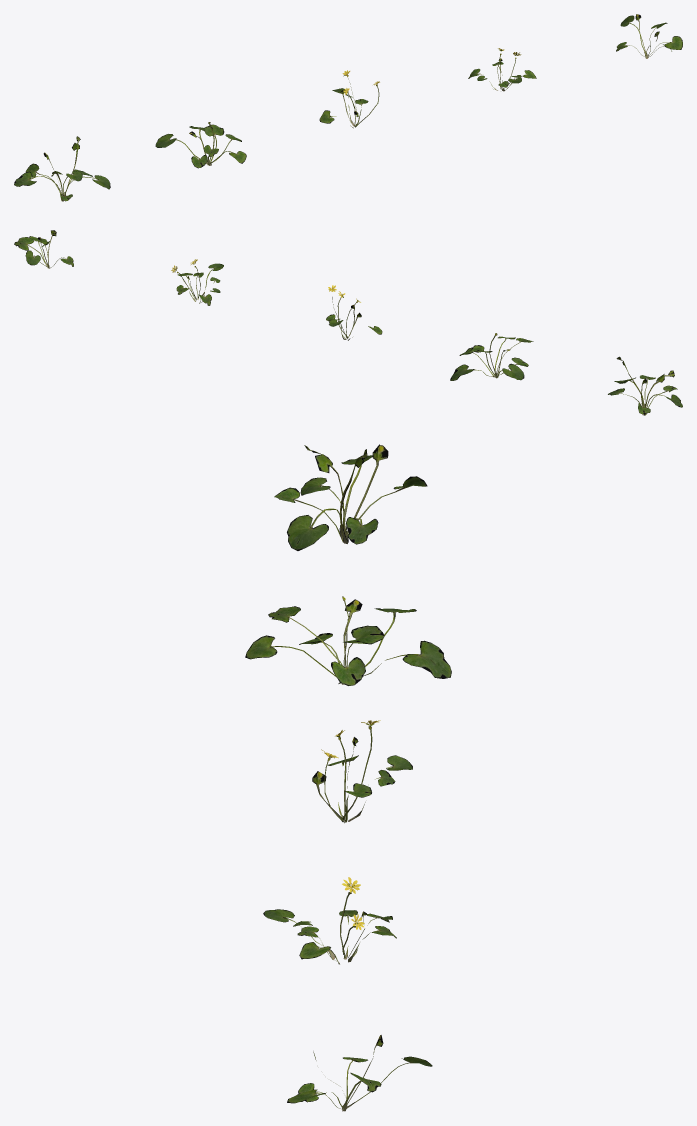
File: celandine_01_leaf.glb
The picture shows the model from 3 angles, top to bottom: view 1: azimuth 30°, elevation 25°; view 2: azimuth 150°, elevation 25°; view 3: azimuth 270°, elevation 25°; orthographic projection. The views are drawn at different scales.
Parts seen in each view (by area): view 1: celandine_01_b_LOD0, celandine_01_a_LOD0, celandine_01_e_LOD0, celandine_01_c_LOD0, celandine_01_d_LOD0; view 2: celandine_01_b_LOD0, celandine_01_a_LOD0, celandine_01_e_LOD0, celandine_01_d_LOD0, celandine_01_c_LOD0; view 3: celandine_01_b_LOD0, celandine_01_a_LOD0, celandine_01_d_LOD0, celandine_01_c_LOD0, celandine_01_e_LOD0.
Part boxes in pixels (x1,y1,x2,y2): celandine_01_b_LOD0: (155, 122, 246, 168); celandine_01_a_LOD0: (14, 136, 110, 201); celandine_01_e_LOD0: (616, 14, 682, 58); celandine_01_c_LOD0: (319, 70, 379, 128); celandine_01_d_LOD0: (468, 48, 536, 91); celandine_01_b_LOD0: (450, 333, 533, 380); celandine_01_a_LOD0: (608, 356, 682, 415); celandine_01_e_LOD0: (14, 230, 73, 268); celandine_01_d_LOD0: (171, 259, 223, 305); celandine_01_c_LOD0: (326, 285, 382, 340); celandine_01_b_LOD0: (245, 596, 451, 685); celandine_01_a_LOD0: (274, 444, 427, 550); celandine_01_d_LOD0: (263, 877, 396, 964); celandine_01_c_LOD0: (312, 720, 412, 823); celandine_01_e_LOD0: (287, 1035, 432, 1111).
Bounding box in the file's own units: 2.24 × 0.1859 × 0.3067.
1 material, 1 textured.
